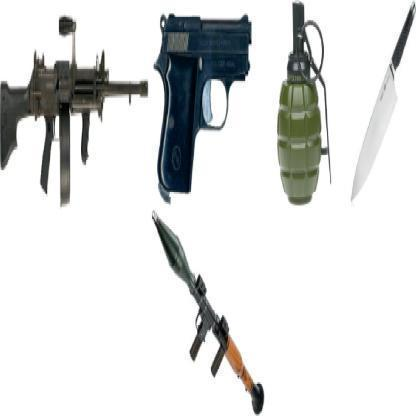Grenade: (276, 2, 333, 208)
Gun: (0, 12, 148, 211), (150, 205, 264, 416)
Knife: (349, 0, 416, 206)
Pistol: (153, 8, 254, 208)
